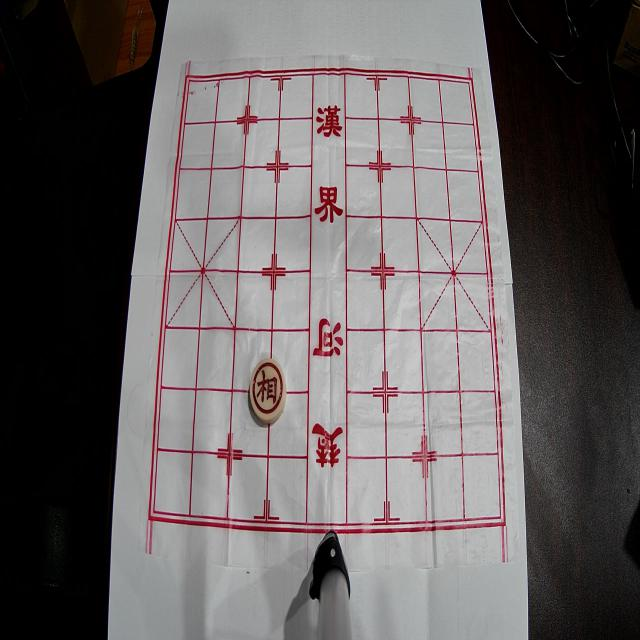red-elephant: (250, 358, 286, 424)
